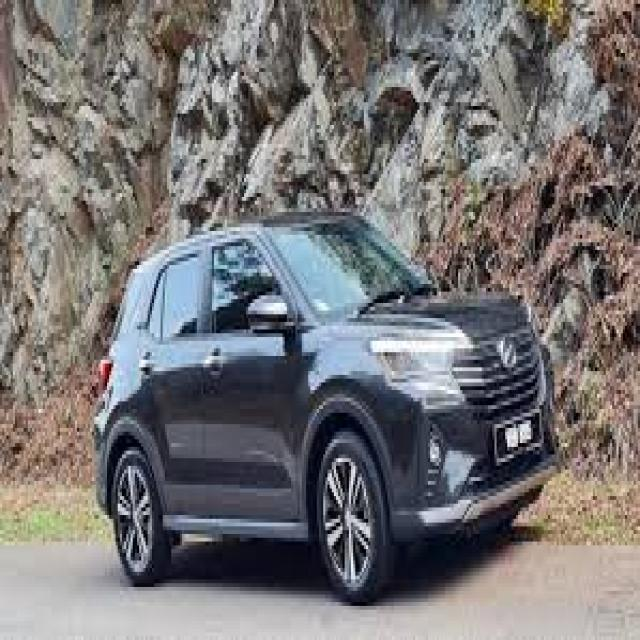PeroduaAtiva: (90, 205, 563, 602)
